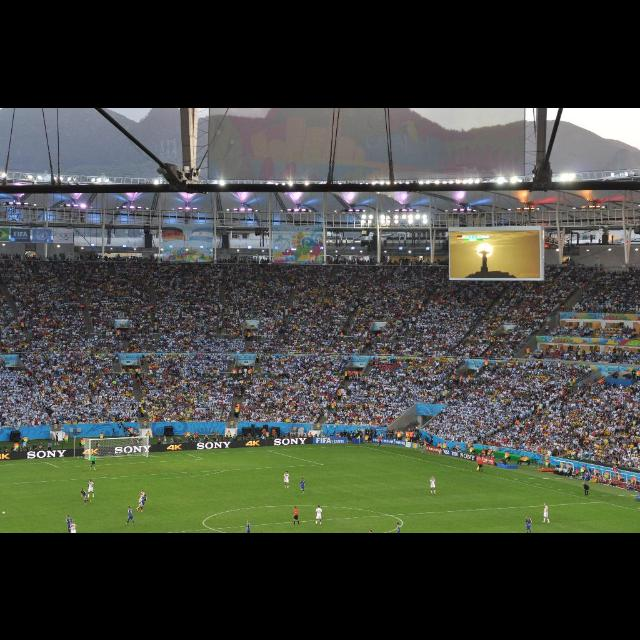Football: (1, 511, 4, 513)
